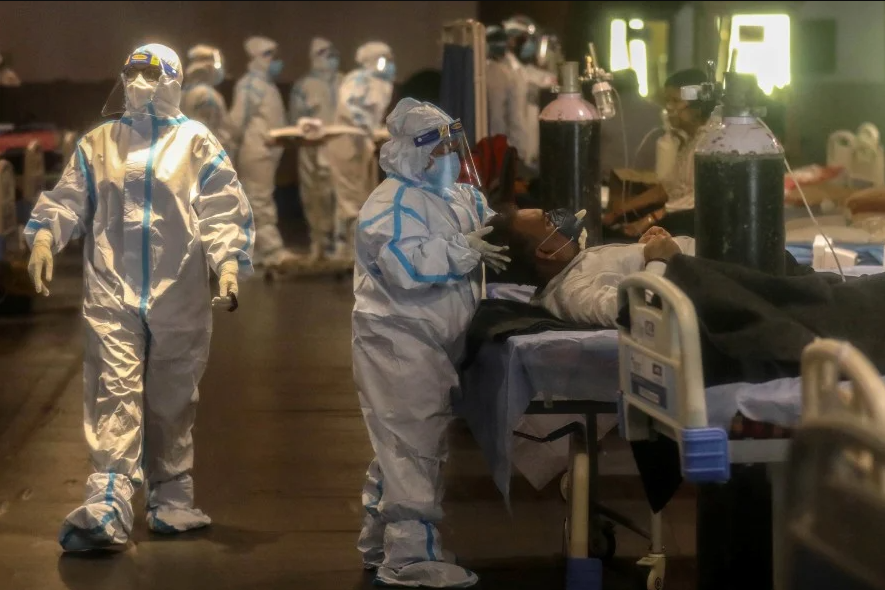Coverall: (27, 42, 251, 507), (348, 96, 487, 568), (289, 40, 345, 263), (235, 39, 285, 272)
Gloves: (465, 228, 512, 277), (25, 236, 60, 298), (207, 258, 239, 311)
with_mask: (121, 67, 167, 110), (424, 140, 460, 190)
